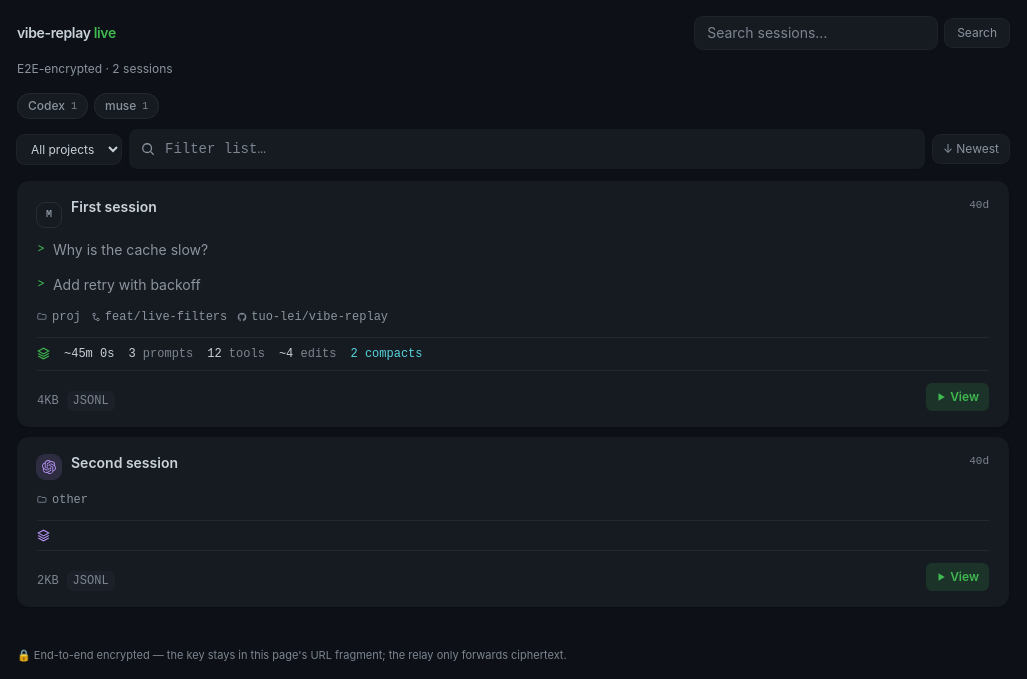
Test: LiveApp › toggles the list sort order between newest and oldest
Expected: the text "E2E-encrypted · 2 sessions" is shown, [17,61,173,76]
Step 1. Click the button titled "Newest first" → [971, 149], box [933,135,1009,163]
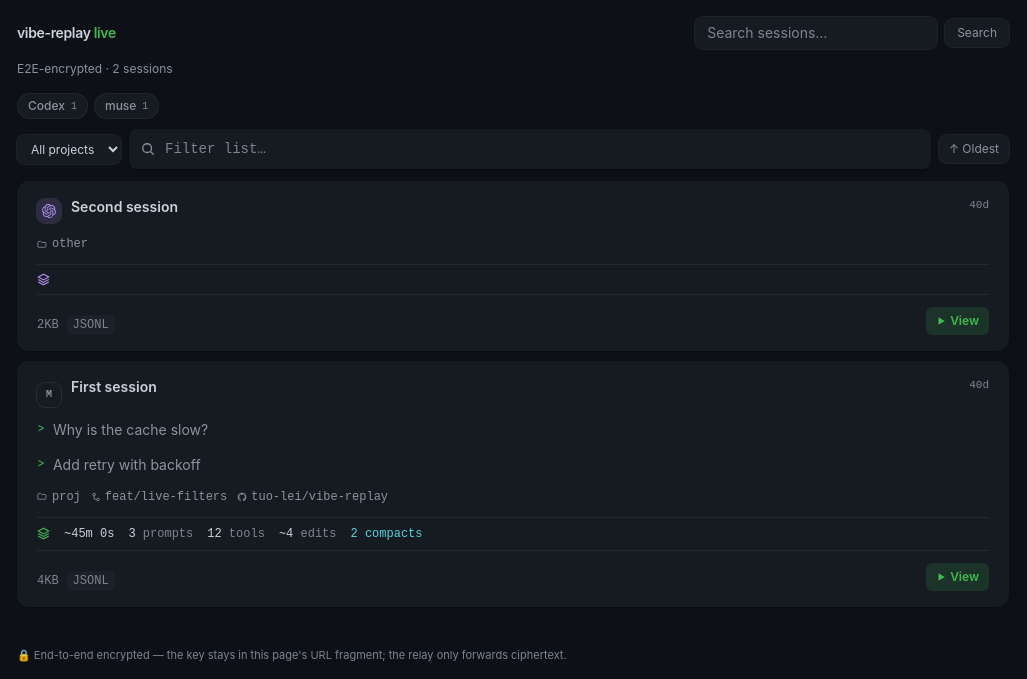
Expected: the button titled "Oldest first" is shown, [939,135,1009,163]
